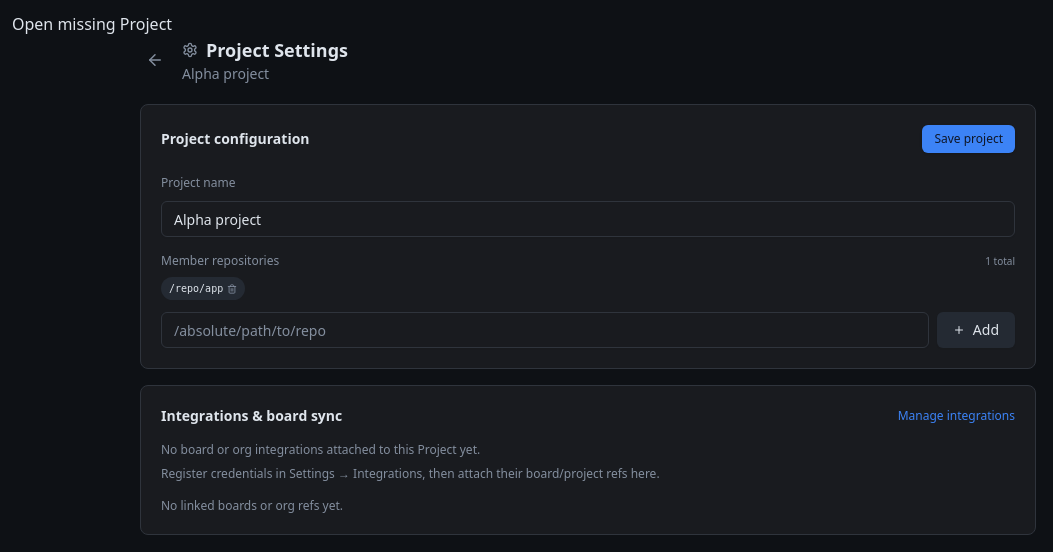
Test: RepoSettings › clears the previous Project when navigation fails
Expected: the text "Alpha project" is shown, [182, 64, 269, 83]
What coordinates should you click on to do the following:
click the link "Open missing Project"
I would click on:
 (92, 24)
Its box is [12, 13, 172, 35].
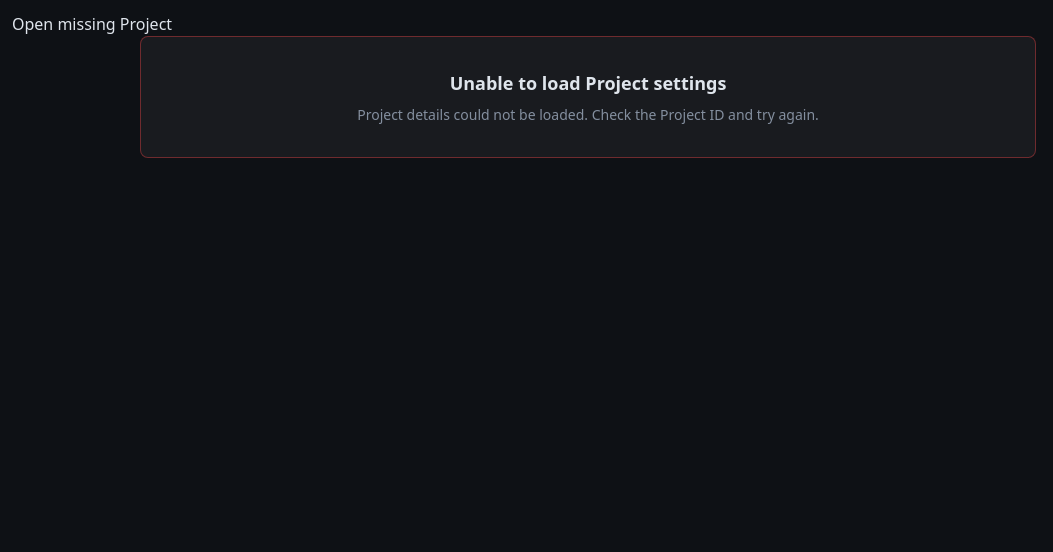
Expected: the message shows "Unable to load Project settings", [450, 71, 726, 95]
Expected: the text "Alpha project" is gone
